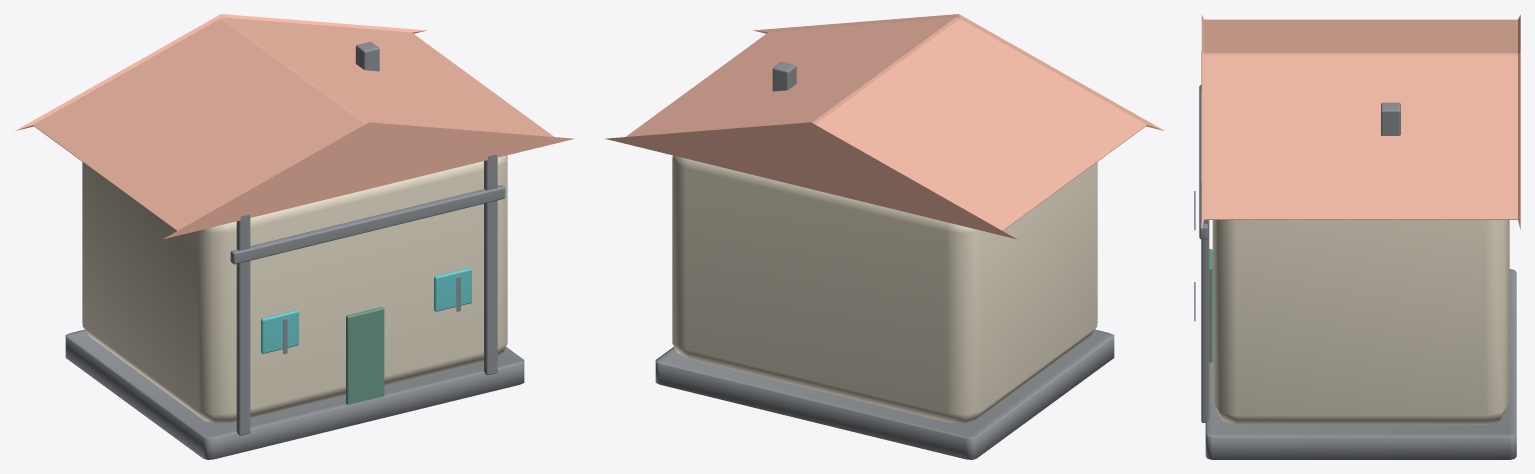
The model's file is house_small.glb.
3 renders of one model, left to right at view 1: azimuth 30°, elevation 25°; view 2: azimuth 150°, elevation 25°; view 3: azimuth 270°, elevation 25°, orthographic. The views are drawn at different scales.
Visible parts, largest first — view 1: house_small_root; view 2: house_small_root; view 3: house_small_root.
Part boxes in pixels (box(x1,y1,x2,y2)): house_small_root: box(15, 14, 574, 459); house_small_root: box(605, 14, 1164, 459); house_small_root: box(1194, 15, 1520, 459).
Size of the model in its own units: 5.73 by 4 by 3.64.
